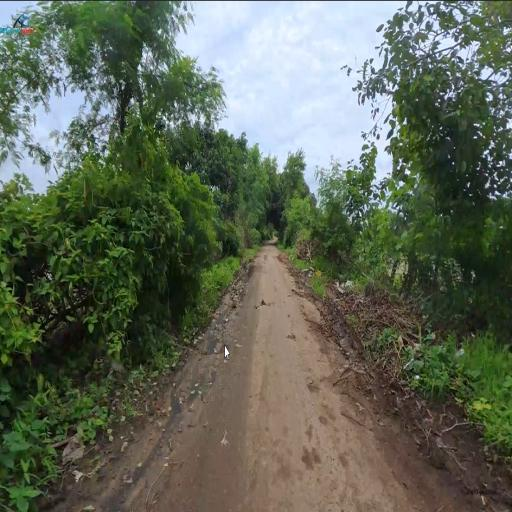drainage_issue: (185, 320, 221, 385)
